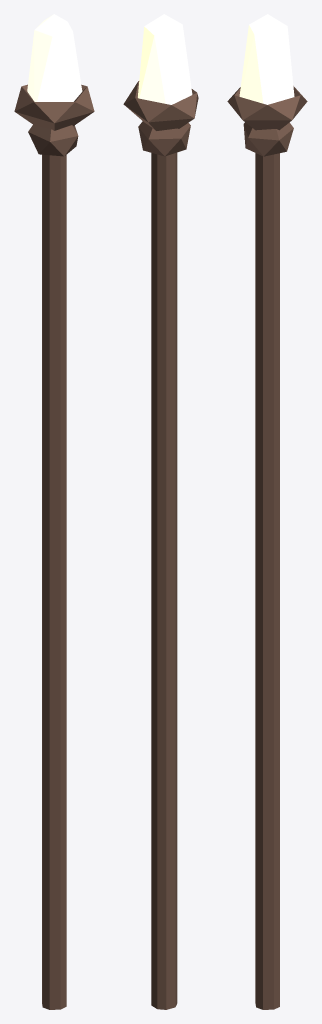
File: Light_Stone_Long.fbx
The picture shows the model from 3 angles, left to right: view 1: azimuth 90°, elevation 25°; view 2: azimuth 210°, elevation 25°; view 3: azimuth 270°, elevation 25°; orthographic projection.
Visible parts, largest first — view 1: Икосфера.006; view 2: Икосфера.006; view 3: Икосфера.006.
Part boxes in pixels (left/top/right/bottom): Икосфера.006: left=14, top=14, right=94, bottom=1009; Икосфера.006: left=123, top=14, right=198, bottom=1009; Икосфера.006: left=227, top=14, right=307, bottom=1009.
Size of the model in its own units: 9.05 by 135 by 9.91.
